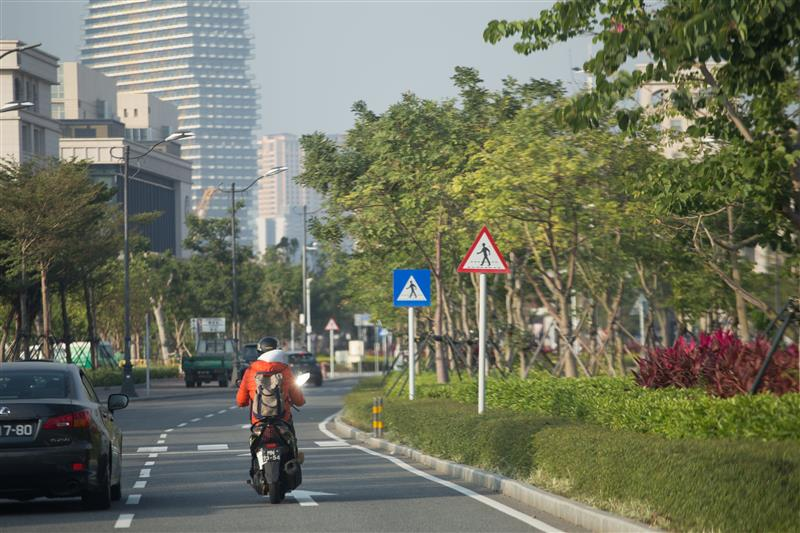pedestrianCrossing: (393, 268, 431, 307)
pedestrianCrossingR: (457, 224, 511, 276)
